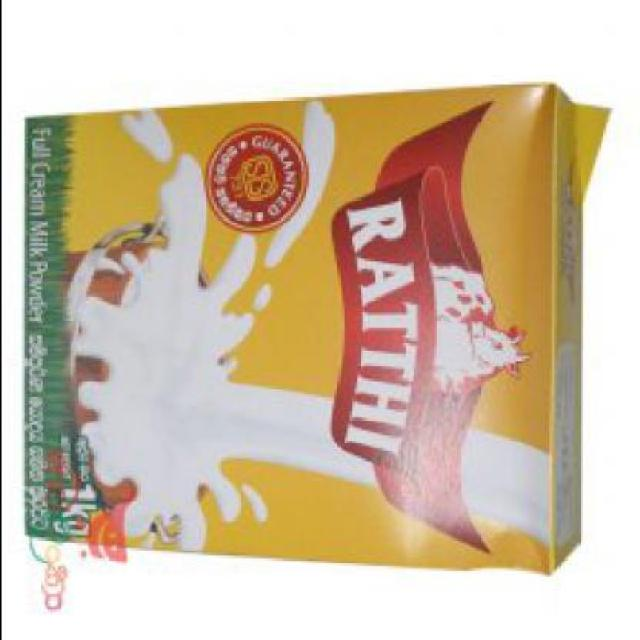CARDBOARD: (28, 79, 614, 573)
